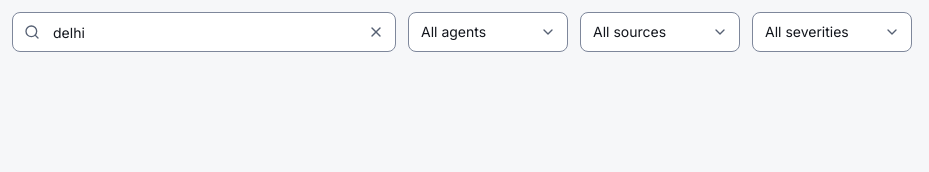
Test case: search box › clears the text, updates the URL and keeps focus
The image size is (929, 172).
Expected: the search field named "Search calls" holds "delhi", [12, 12, 396, 52]
Step 1. Click the button named "Clear search" → {"x": 376, "y": 32}, box [360, 16, 392, 48]
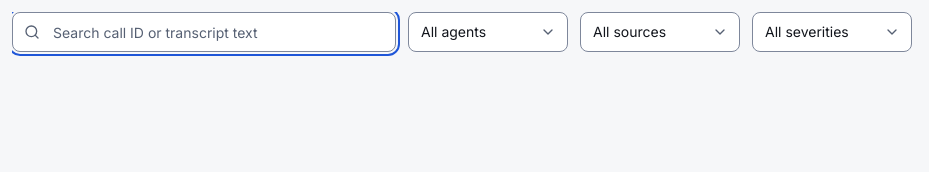
Expected: the search field named "Search calls" is empty, [12, 12, 396, 52]
